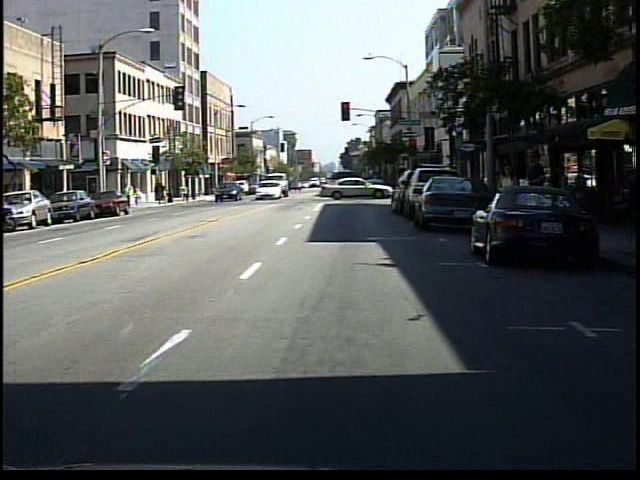person: (517, 146, 548, 247), (496, 155, 521, 242), (135, 183, 148, 209), (120, 179, 134, 202)
